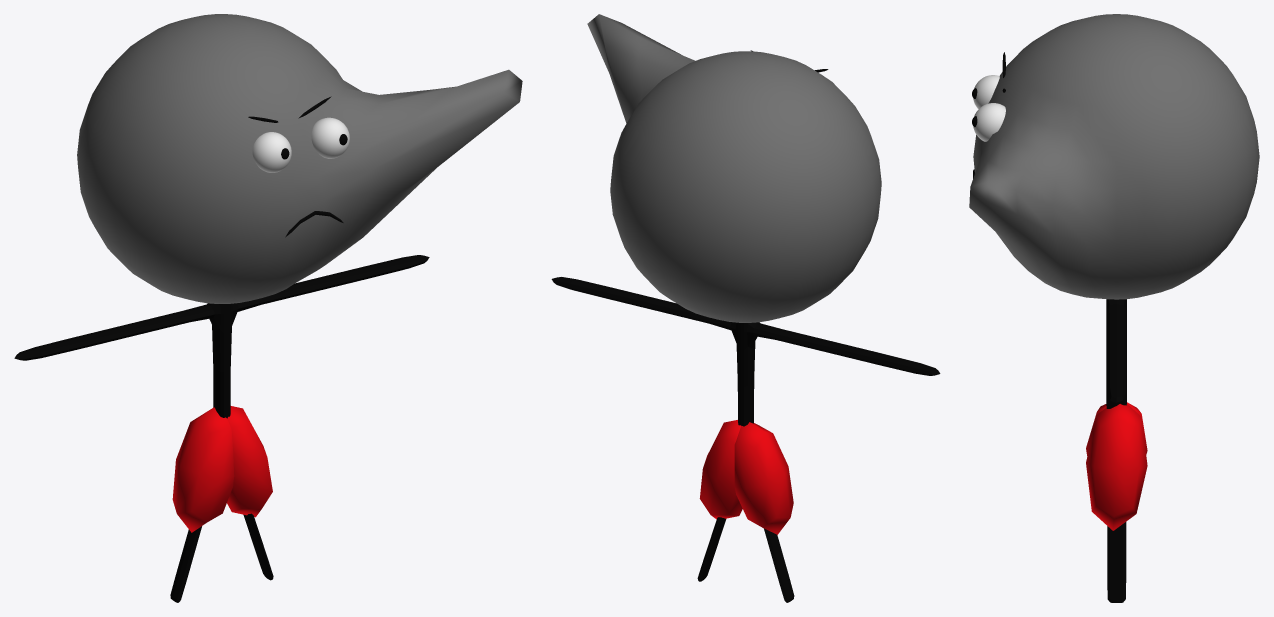
The model's file is angry prash.fbx.
3 views of the same model, side by side, from view 1: azimuth 30°, elevation 25°; view 2: azimuth 150°, elevation 25°; view 3: azimuth 270°, elevation 25° (orthographic). The views are drawn at different scales.
Visible parts, largest first — view 1: Sphere, Cube.001, Cube, Sphere.001; view 2: Sphere, Cube.001, Cube; view 3: Sphere, Cube.001, Cube, Sphere.001.
Part boxes in pixels (x1,y1,x2,y2): Sphere: (77,14,522,303); Cube.001: (172,406,272,532); Cube: (14,255,429,602); Sphere.001: (252,117,349,172); Sphere: (587,14,881,322); Cube.001: (699,420,793,534); Cube: (551,277,940,602); Sphere: (969,14,1259,299); Cube.001: (1086,402,1147,530); Cube: (1106,299,1126,602); Sphere.001: (973,75,1005,141).
Bounding box in the file's own units: 576 × 699 × 332.
